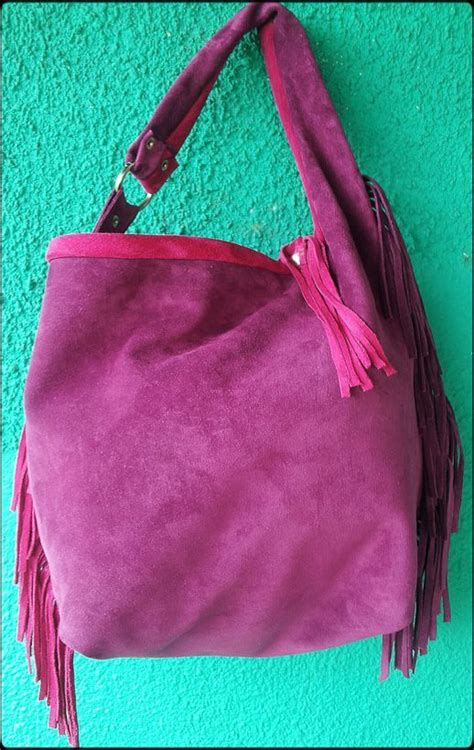gamuza: (24, 229, 427, 660)
